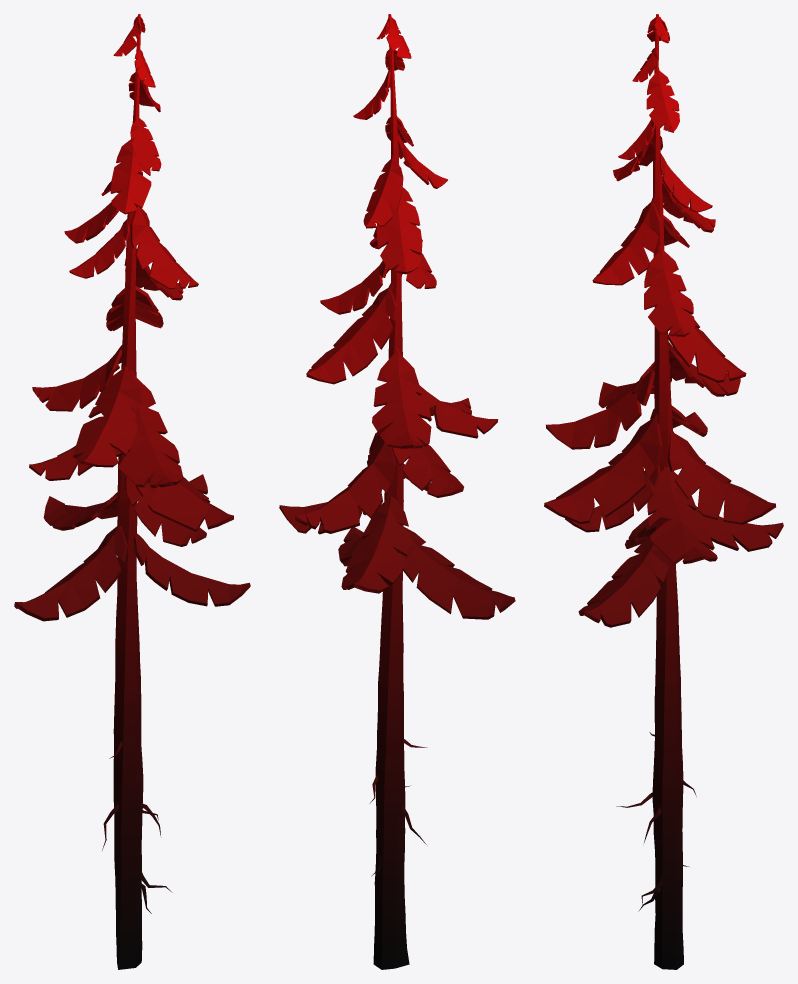
The model's file is TreeSpruceTall09.fbx.
3 views of the same model, side by side, from view 1: azimuth 30°, elevation 25°; view 2: azimuth 150°, elevation 25°; view 3: azimuth 270°, elevation 25° (orthographic).
Parts seen in each view (by area): view 1: TreeSpruceTall09_LOD0; view 2: TreeSpruceTall09_LOD0; view 3: TreeSpruceTall09_LOD0.
Boxes of the visible parts, x1=… form: TreeSpruceTall09_LOD0: x1=14, y1=14, x2=250, y2=969; TreeSpruceTall09_LOD0: x1=279, y1=14, x2=515, y2=969; TreeSpruceTall09_LOD0: x1=544, y1=14, x2=783, y2=969.
Size of what is drawn, in the model's own units: 476 by 2025 by 462.
